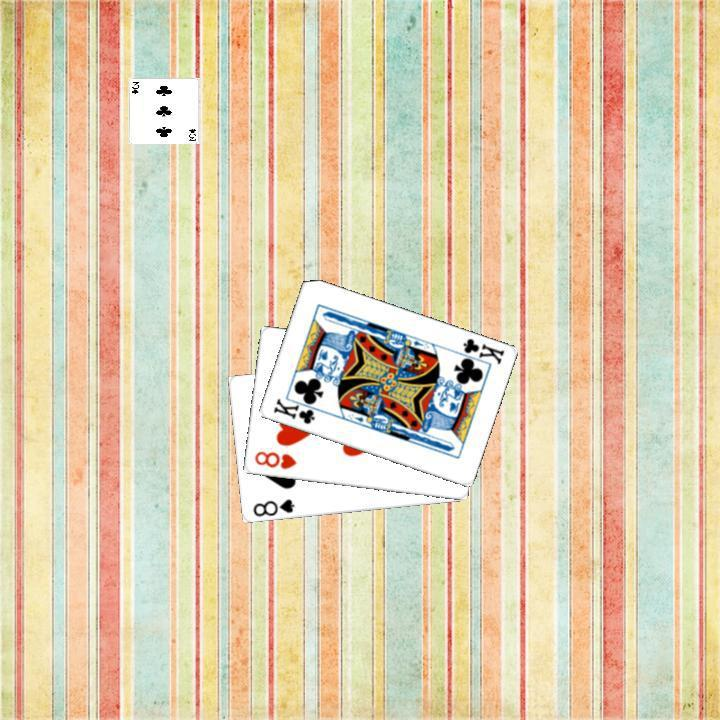8: (248, 495, 297, 519), (250, 447, 298, 471)
K: (450, 334, 506, 369), (269, 392, 324, 426)
